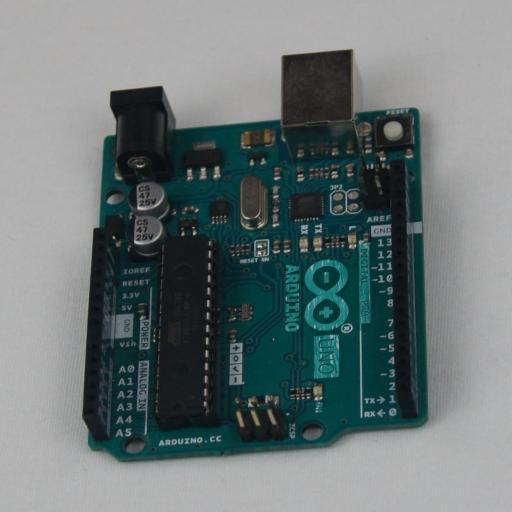Arduino Uno -Green-: (82, 49, 428, 462)
